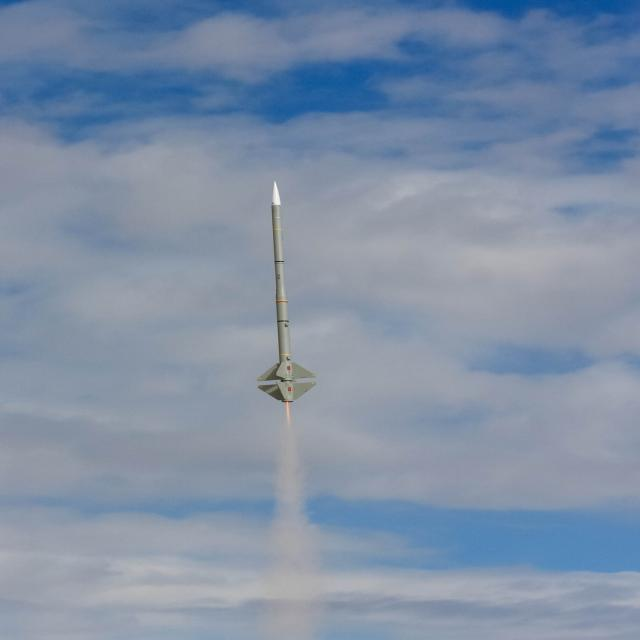Rocket: (255, 180, 318, 404)
